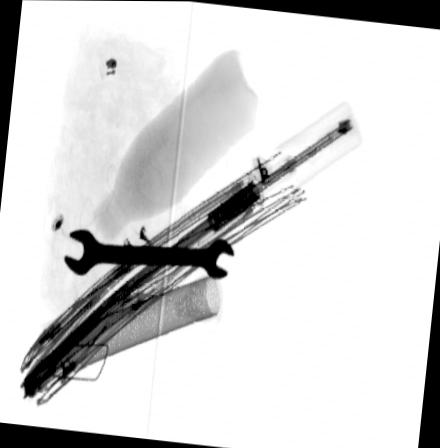Wrench: (62, 227, 236, 280)
